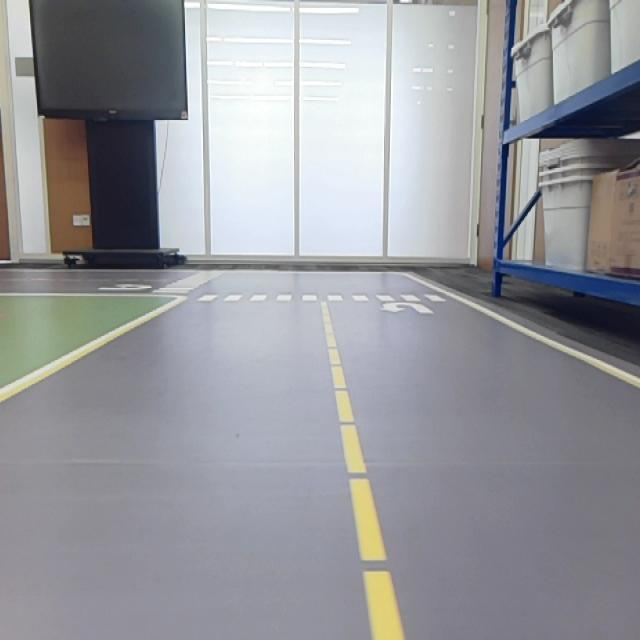left_lane: (323, 302, 406, 640)
right_lane: (408, 273, 640, 388), (1, 295, 183, 402)
